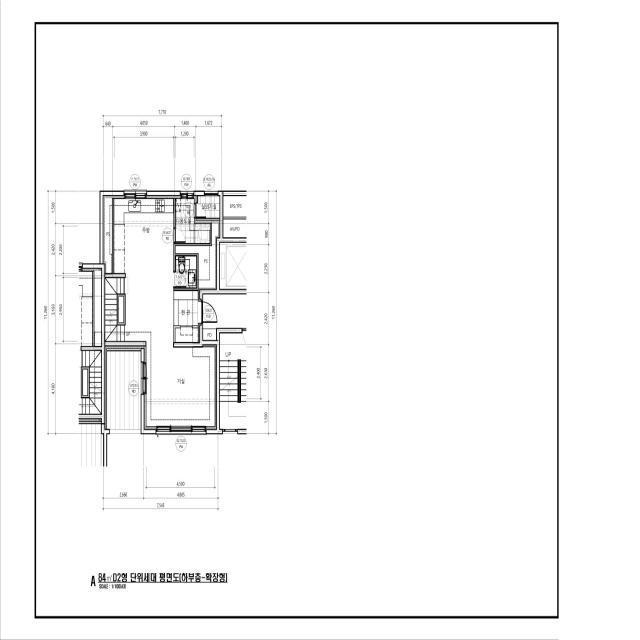background: (24, 8, 572, 640)
space_front: (174, 291, 201, 342)
space_kitchen: (114, 199, 174, 273)
space_living_room: (125, 273, 215, 426)
space_multipurpose_space: (176, 199, 210, 243)
space_other: (176, 223, 218, 288), (107, 351, 141, 429), (203, 294, 246, 340), (105, 278, 126, 341), (220, 243, 247, 289), (105, 198, 112, 273), (223, 196, 247, 217), (223, 219, 247, 237), (119, 297, 123, 322)
space_outdoor_room: (196, 196, 219, 218)
space_staircase: (220, 333, 247, 429)
space_toilet: (176, 256, 196, 288)
